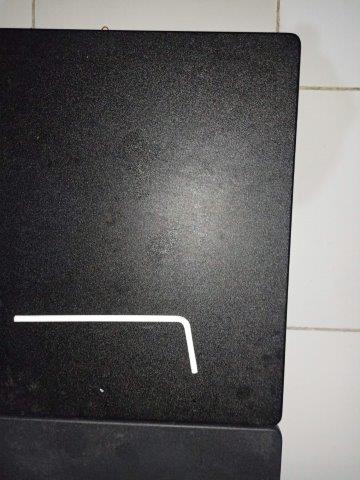sedotan: (14, 314, 197, 373)
